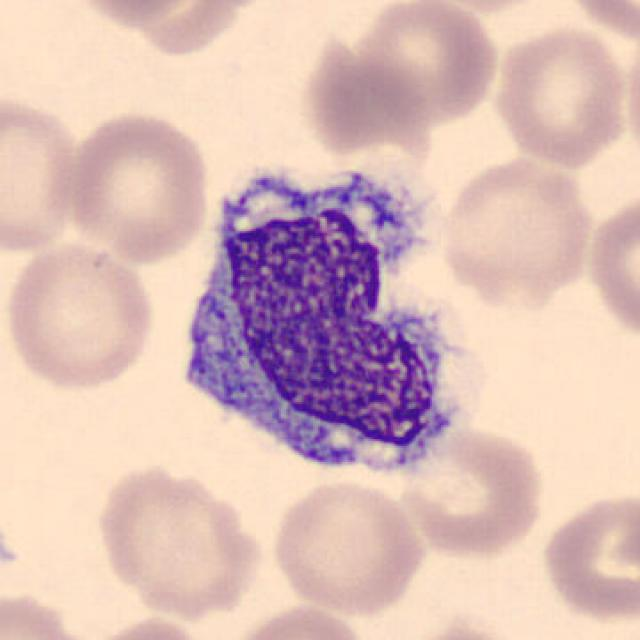Monocyte: (162, 150, 468, 495)
RBC: (90, 460, 268, 621), (436, 152, 598, 306), (60, 106, 214, 266), (2, 236, 158, 393), (266, 474, 426, 617), (393, 421, 549, 561), (489, 21, 633, 171), (343, 0, 503, 130), (298, 28, 428, 157), (537, 485, 638, 628), (0, 88, 85, 257), (583, 185, 638, 346), (62, 0, 249, 41), (218, 601, 372, 640), (0, 587, 101, 640), (556, 0, 640, 46), (82, 612, 215, 640), (386, 620, 537, 640)
